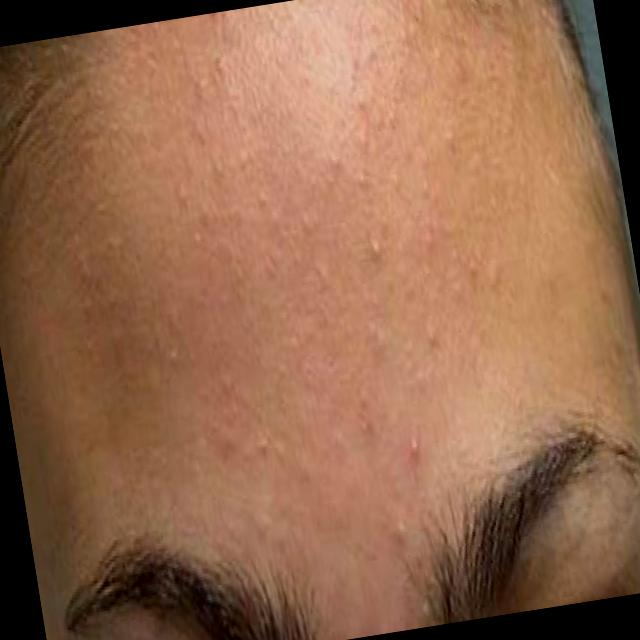fungal: (143, 0, 515, 518), (44, 158, 214, 422)
